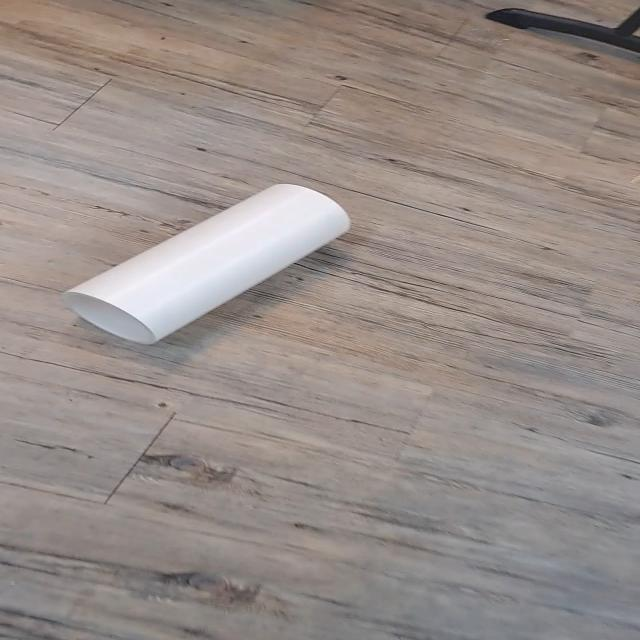CORAL: (60, 175, 355, 361)
